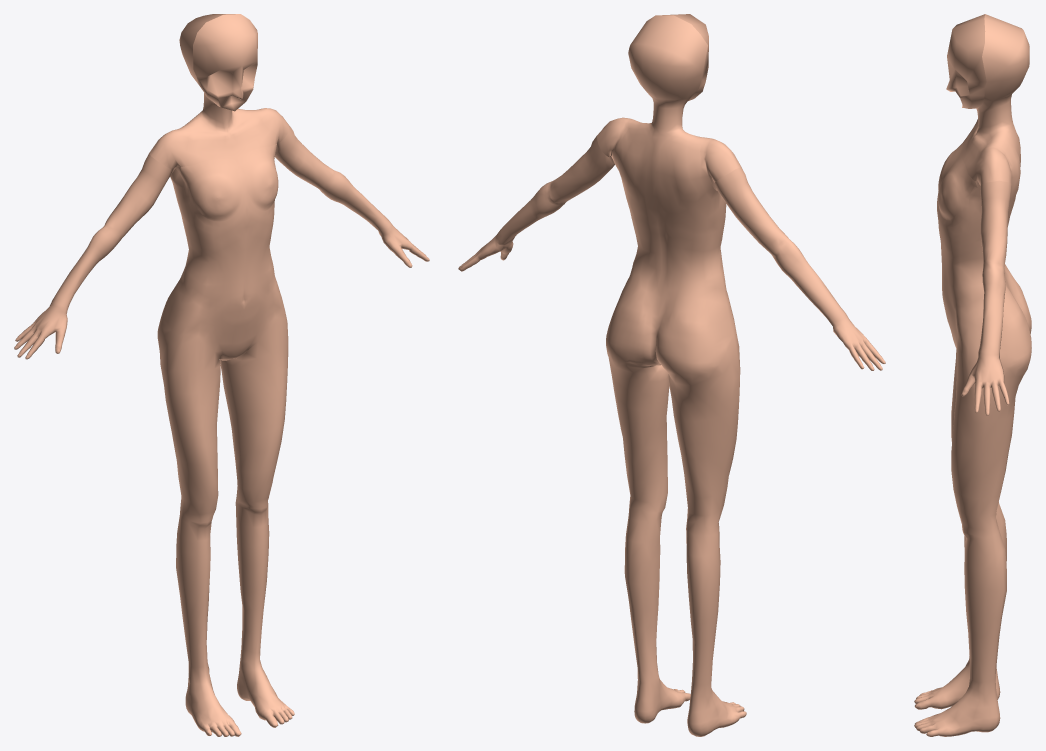
The model's file is t-pose-45deg.fbx.
The picture shows the model from 3 angles, left to right: view 1: azimuth 30°, elevation 25°; view 2: azimuth 150°, elevation 25°; view 3: azimuth 270°, elevation 25°; orthographic projection. The views are drawn at different scales.
Parts seen in each view (by area): view 1: Tスタンス素体; view 2: Tスタンス素体; view 3: Tスタンス素体.
Boxes of the visible parts, left/top/right/bottom form: Tスタンス素体: left=14, top=14, right=429, bottom=736; Tスタンス素体: left=458, top=14, right=885, bottom=736; Tスタンス素体: left=914, top=14, right=1031, bottom=736.
Size of the model in its own units: 1287 by 2085 by 318.
